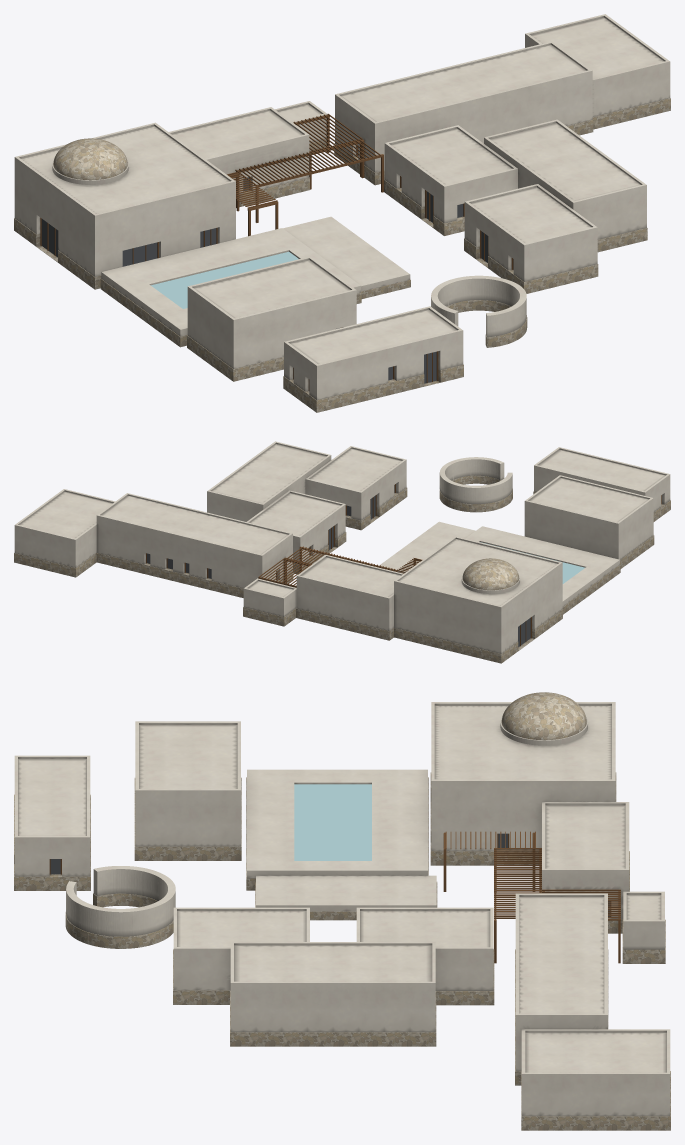
Rendered from villa-M-hq-mobile.glb.
3 renders of one model, top to bottom at view 1: azimuth 30°, elevation 25°; view 2: azimuth 150°, elevation 25°; view 3: azimuth 270°, elevation 25°, orthographic. The views are drawn at different scales.
Visible parts, largest first — view 1: plaster, stone, wood, glass, water; view 2: plaster, stone, wood, glass, water; view 3: plaster, stone, water, wood.
Part boxes in pixels (x1=…): plaster: x1=14, y1=14, x2=670, y2=400; stone: x1=14, y1=98, x2=670, y2=412; wood: x1=40, y1=113, x2=513, y2=390; glass: x1=41, y1=147, x2=513, y2=383; water: x1=151, y1=251, x2=298, y2=308; plaster: x1=14, y1=441, x2=670, y2=653; stone: x1=14, y1=475, x2=670, y2=663; wood: x1=146, y1=484, x2=661, y2=646; glass: x1=147, y1=485, x2=530, y2=646; water: x1=480, y1=542, x2=584, y2=583; plaster: x1=14, y1=702, x2=670, y2=1116; stone: x1=14, y1=692, x2=670, y2=1130; water: x1=294, y1=784, x2=371, y2=860; wood: x1=49, y1=831, x2=620, y2=963.
Bounding box in the file's own units: 52.48 × 8.05 × 42.31.
5 materials, 3 textured.
